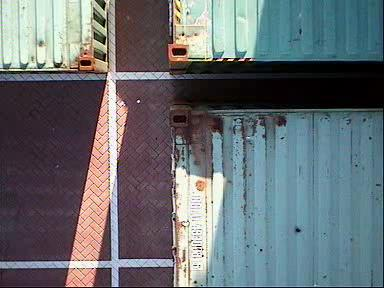groundmarker_2: (163, 139, 234, 229)
